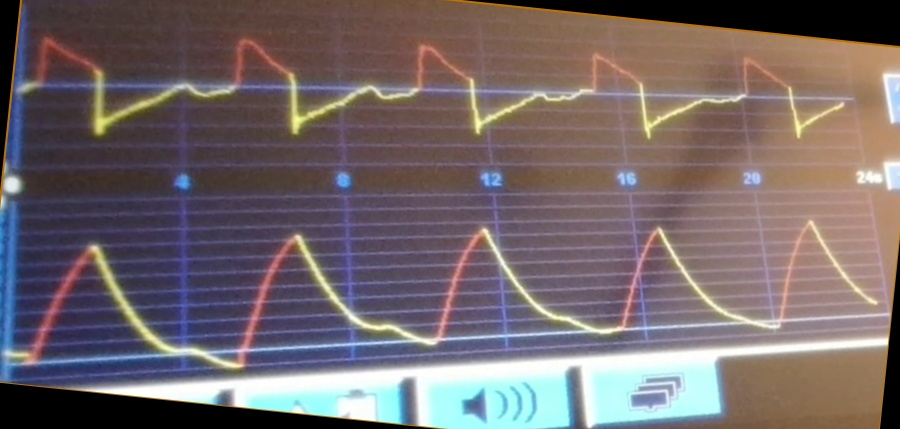Ineffective_effort Flow: (27, 30, 837, 147)
Ineffective_effort Volume: (17, 214, 874, 370)
